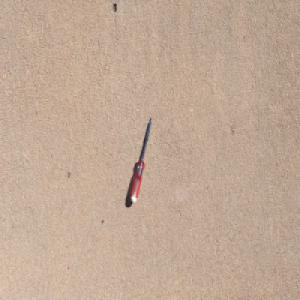Screwdriver: (130, 113, 153, 204)
